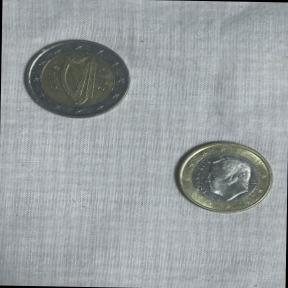1 Euro-B: (170, 137, 277, 219)
2 Euro-B: (18, 31, 140, 125)
